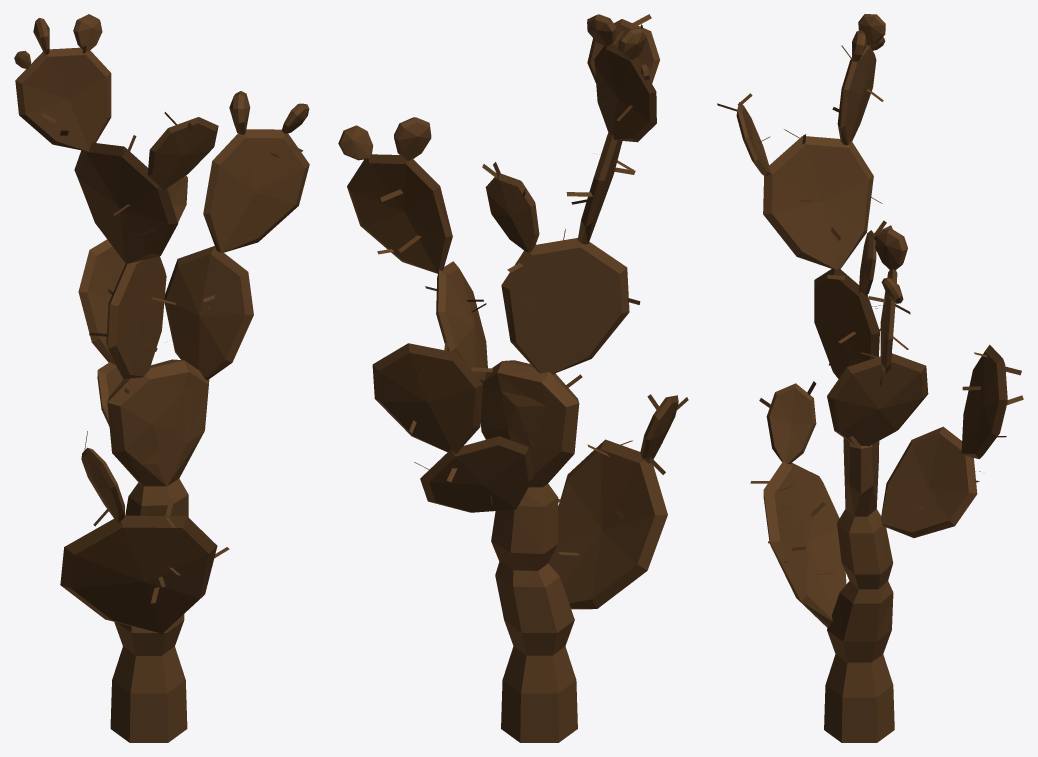
File: SM_Succulent_Opuntia_Mature_A.fbx
3 renders of one model, left to right at view 1: azimuth 30°, elevation 25°; view 2: azimuth 150°, elevation 25°; view 3: azimuth 270°, elevation 25°, orthographic. The views are drawn at different scales.
Parts seen in each view (by area): view 1: succulent-opuntia-mature-a; view 2: succulent-opuntia-mature-a; view 3: succulent-opuntia-mature-a.
Part boxes in pixels (x1=…): succulent-opuntia-mature-a: x1=14, y1=14, x2=309, y2=742; succulent-opuntia-mature-a: x1=338, y1=14, x2=688, y2=742; succulent-opuntia-mature-a: x1=717, y1=14, x2=1023, y2=742.
Size of the model in its own units: 0.8832 by 2.02 by 0.8382.
